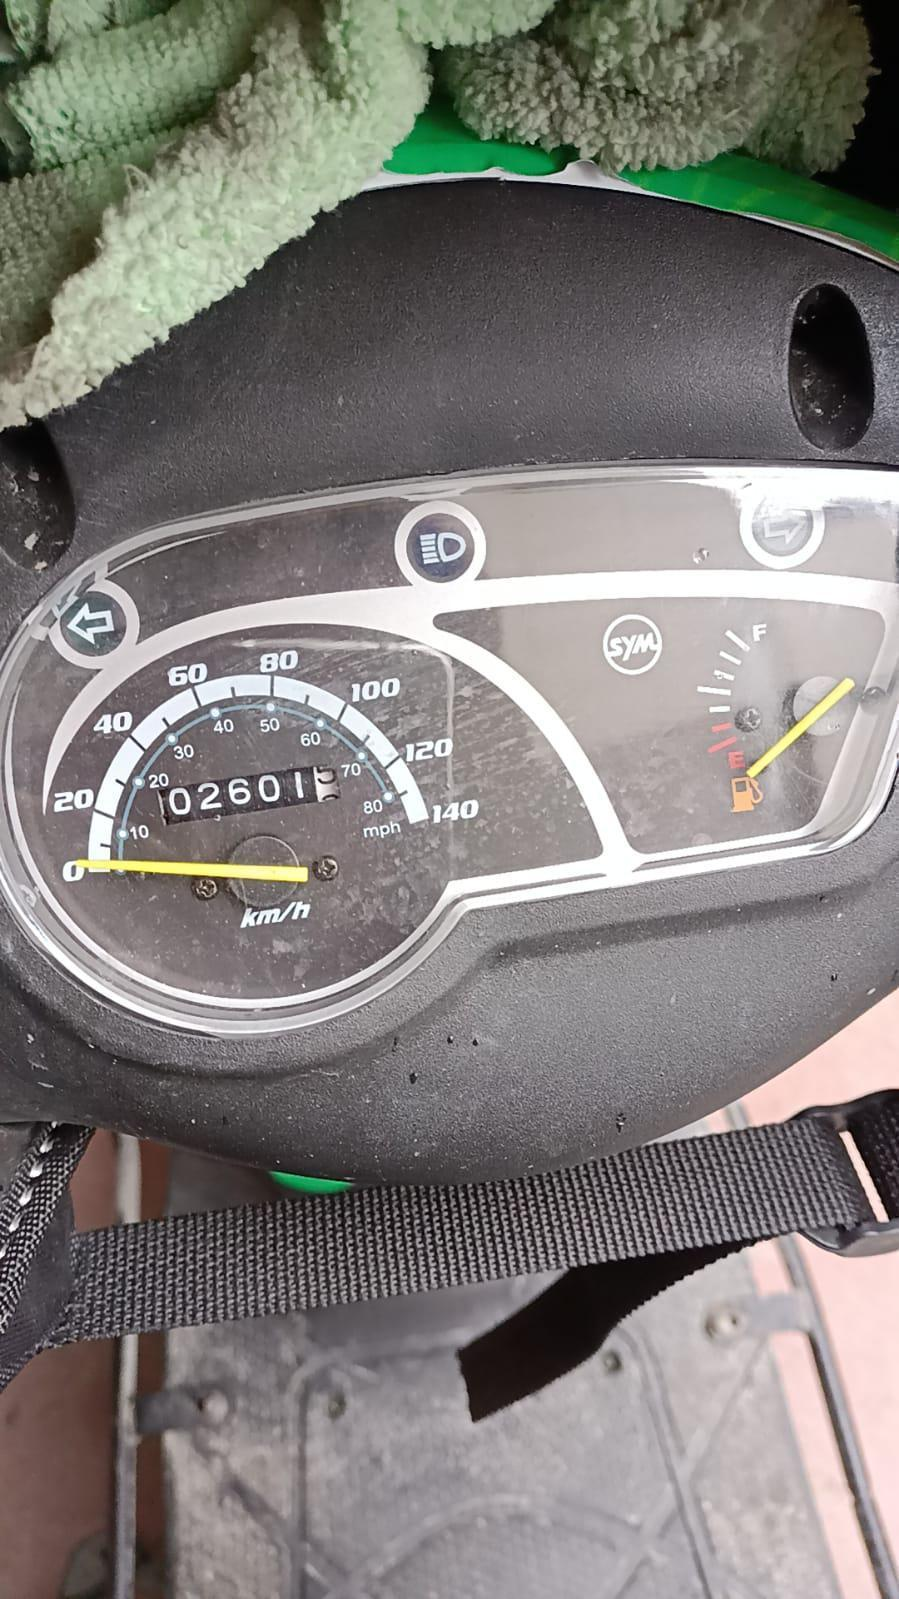0: (167, 786, 194, 820), (257, 770, 282, 806), (158, 768, 169, 789)
1: (290, 765, 308, 807)
2: (196, 779, 223, 810)
5: (316, 759, 337, 789)
6: (228, 772, 254, 805)
odometer: (156, 759, 342, 831)
